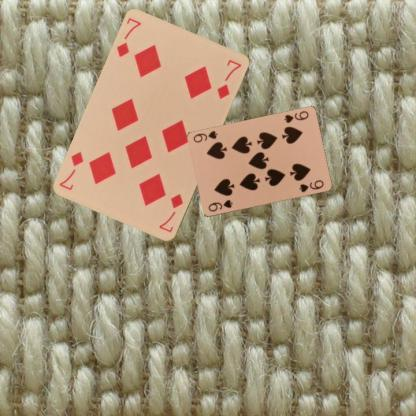7d: (156, 191, 184, 235), (114, 15, 142, 59)
9s: (281, 108, 310, 124), (206, 197, 233, 213)
